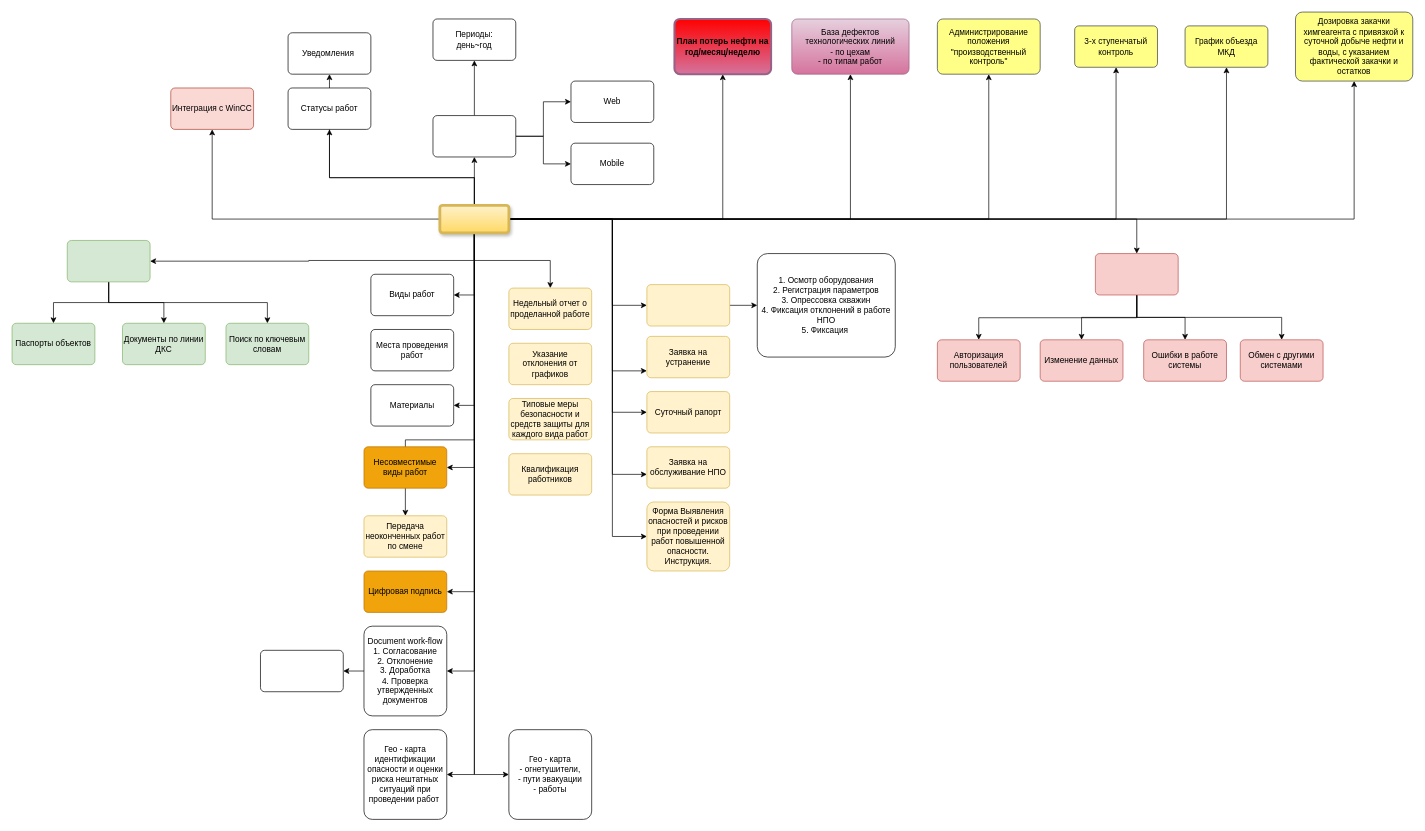
Some shapes in this 1425 by 831 pixel diagram are drawn without their labels. The shapes that lost their labels are listed below. From the top down, each one's centre as x and y in pixels, then its label:
At pixel 474 136: "Планировщик".
At pixel 474 220: "ТОиР".
At pixel 108 261: "Архив".
At pixel 1136 274: "Логирование".
At pixel 688 305: "Сменное задание".
At pixel 301 671: "Согласующие по документу".
